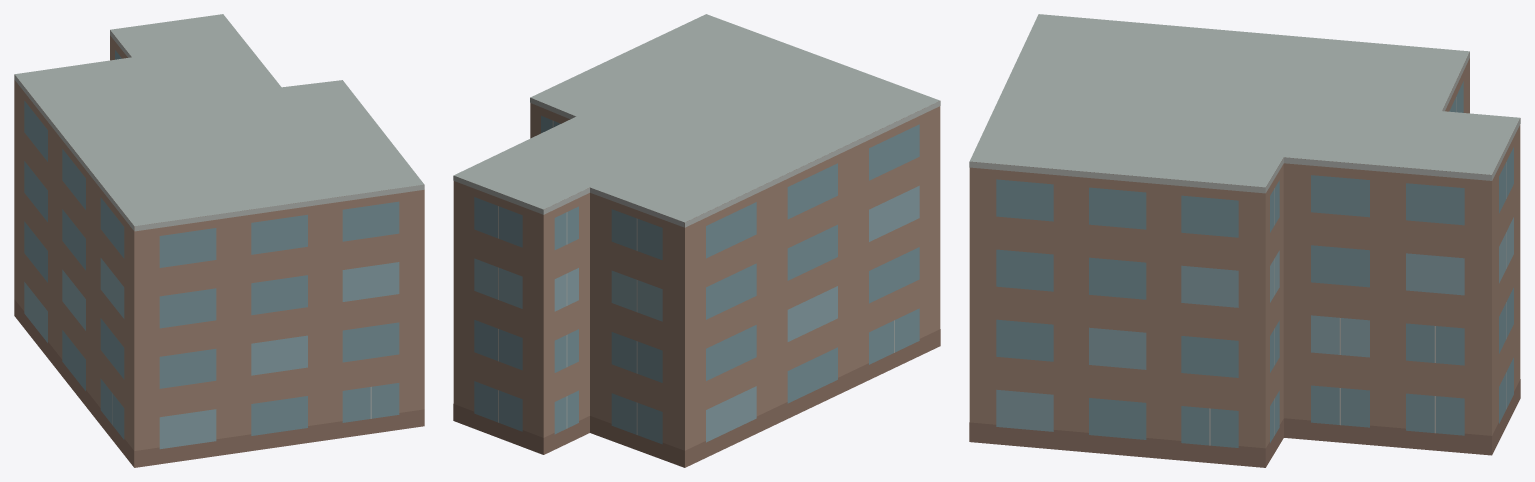
File: survey-upis-32494468.glb
3 renders of one model, left to right at view 1: azimuth 30°, elevation 25°; view 2: azimuth 150°, elevation 25°; view 3: azimuth 270°, elevation 25°, orthographic. The views are drawn at different scales.
Visible parts, largest first — view 1: survey-upis-32494468.tmp; view 2: survey-upis-32494468.tmp; view 3: survey-upis-32494468.tmp.
Boxes of the visible parts, left/top/right/bottom form: survey-upis-32494468.tmp: left=14, top=14, right=424, bottom=467; survey-upis-32494468.tmp: left=453, top=14, right=940, bottom=467; survey-upis-32494468.tmp: left=969, top=14, right=1520, bottom=467.
Bounding box in the file's own units: 15.06 × 11.35 × 20.22.
